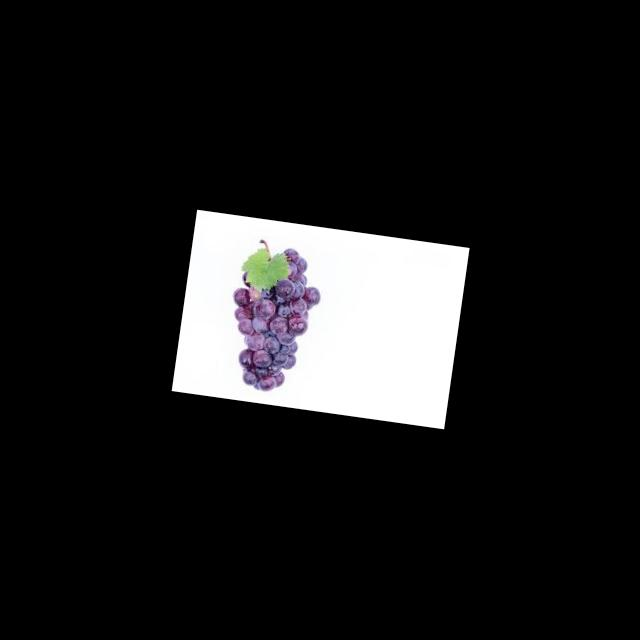grape: (220, 236, 328, 398)
